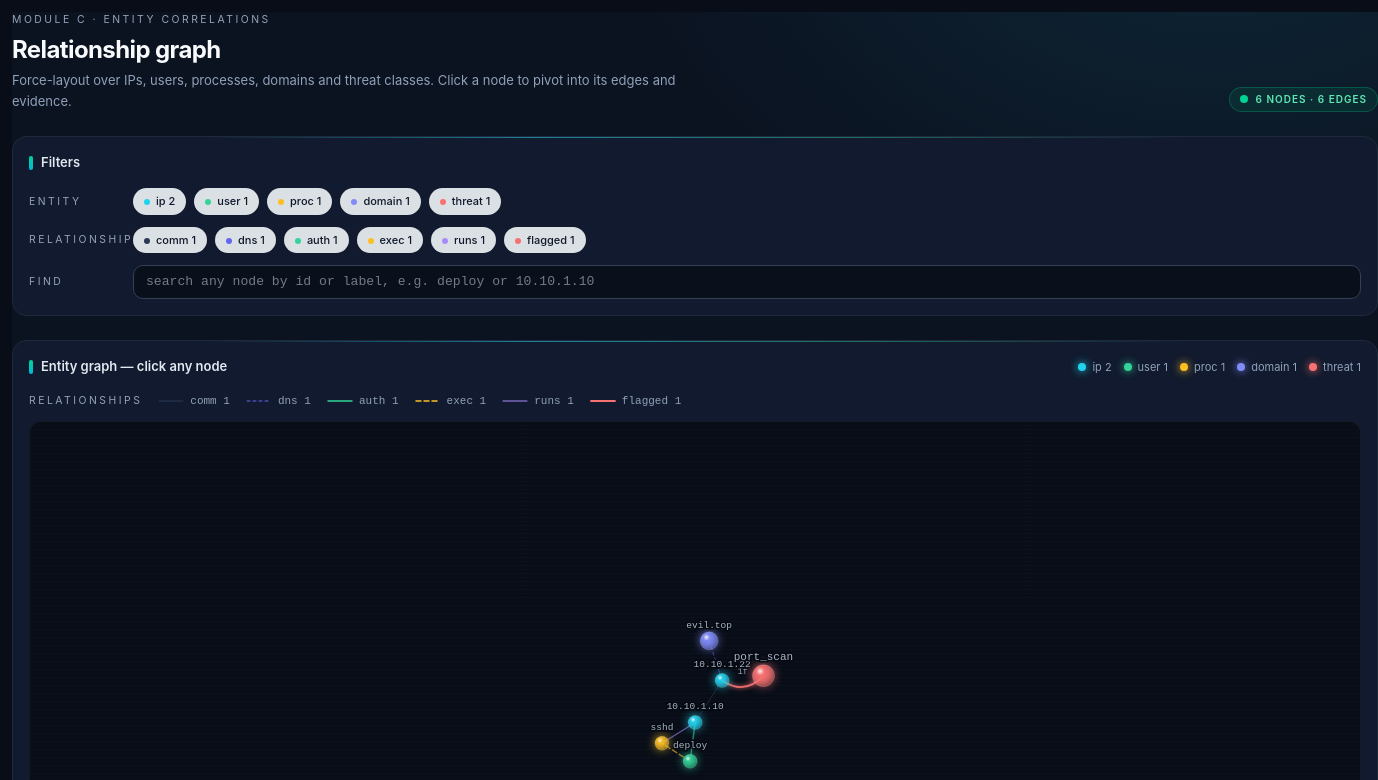
Test: GraphPage filters › clears every filter at once
Expected: the heading "Relationship graph" is shown, [12,35,221,64]
Click the button "comm 1": click(170, 240) [133,227,207,253]
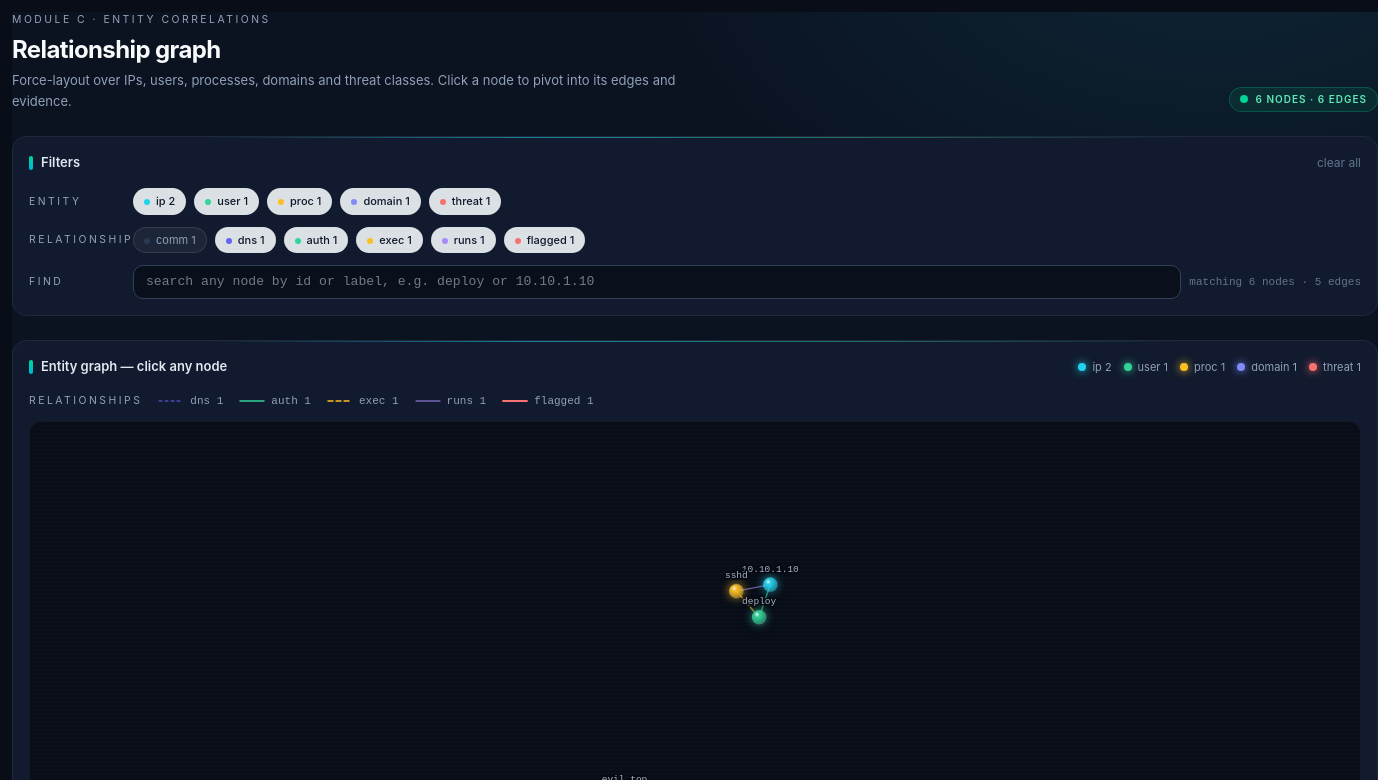
In the field with placeholder "search any node by id or label, e.g. deploy or 10.10.1.10": (657, 282) [133,265,1181,299], type "deploy"
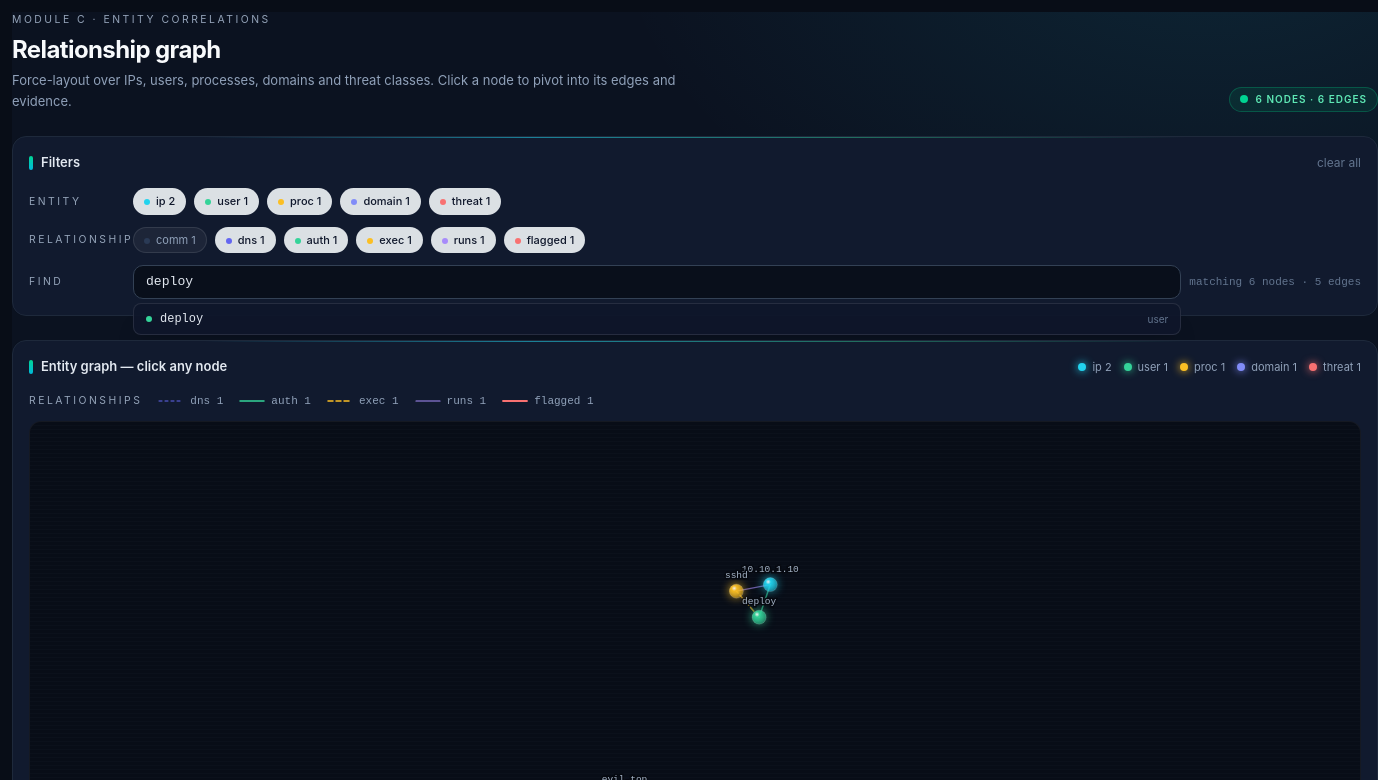
Click the button "clear all": click(1339, 163) [1317,154,1361,172]
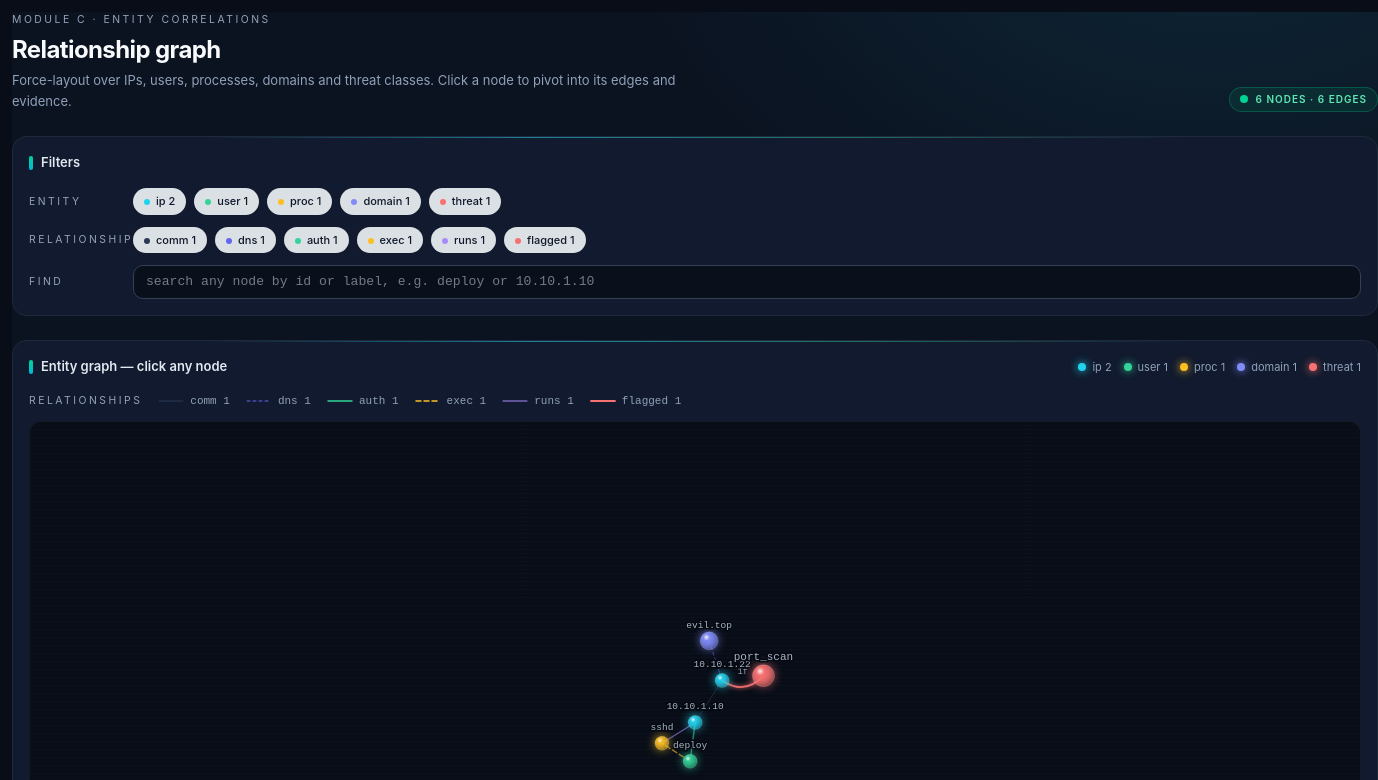
Expected: the field with placeholder "search any node by id or label, e.g. deploy or 10.10.1.10" is empty, [133,265,1361,299]
Expected: the button "clear all" is gone
